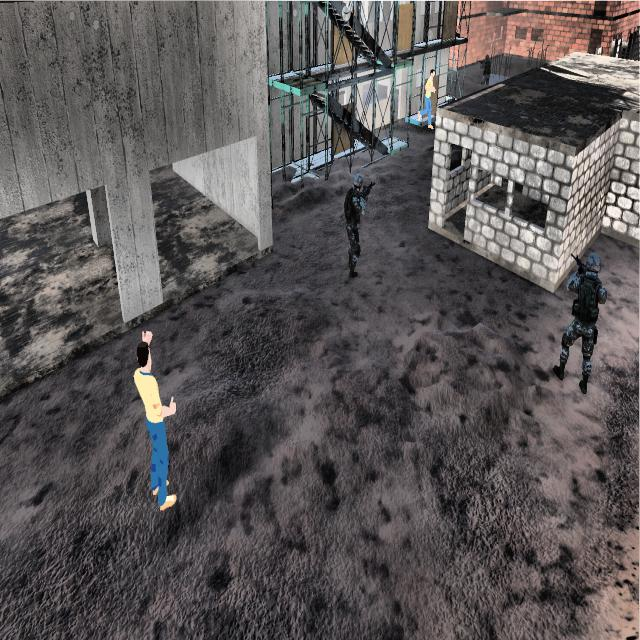bad: (554, 240, 612, 410), (342, 165, 376, 281), (475, 42, 494, 90)
good: (122, 321, 187, 528), (414, 62, 438, 134)
